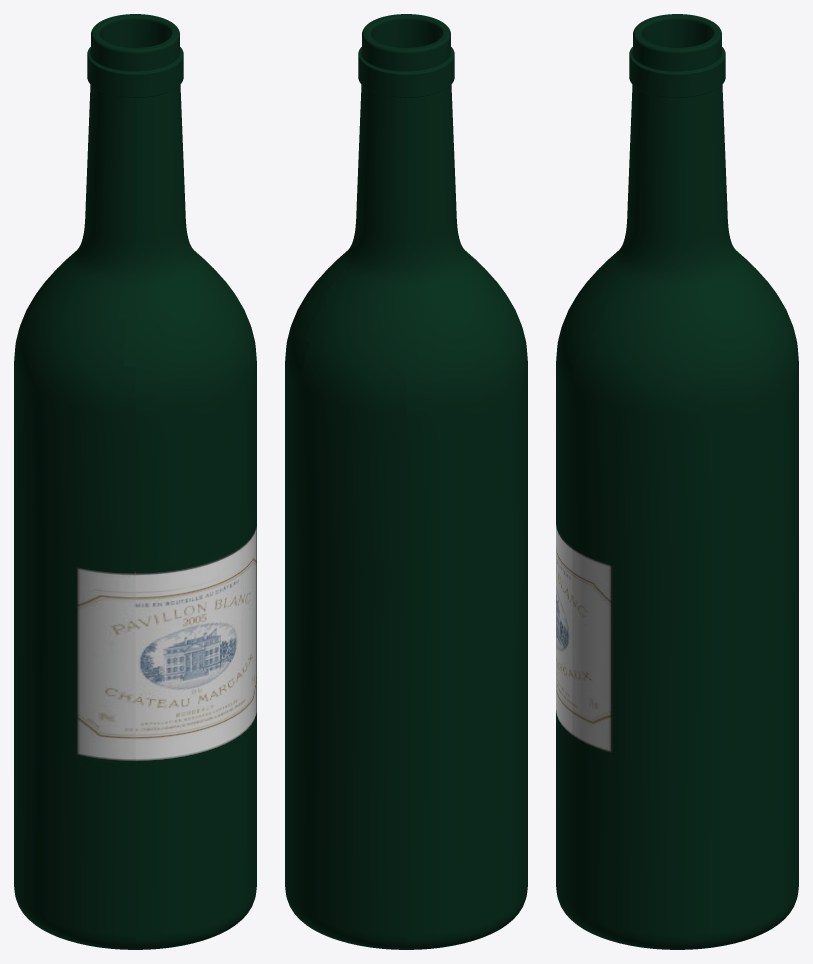
File: bottle.dae
3 views of the same model, side by side, from view 1: azimuth 30°, elevation 25°; view 2: azimuth 150°, elevation 25°; view 3: azimuth 270°, elevation 25° (orthographic).
Visible parts, largest first — view 1: nodes[1]; view 2: nodes[1]; view 3: nodes[1].
Boxes of the visible parts, x1,y1,x2,y2 form: nodes[1]: (14,14,256,949); nodes[1]: (285,14,527,949); nodes[1]: (556,14,798,949).
Size of the model in its own units: 2.96 by 11.7 by 2.96.
